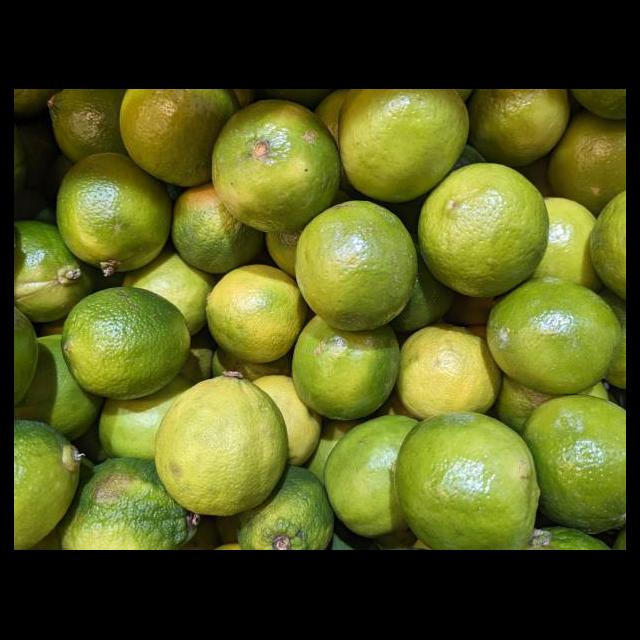lime: (153, 376, 290, 520), (212, 100, 342, 236), (420, 164, 549, 300), (62, 460, 201, 550)
